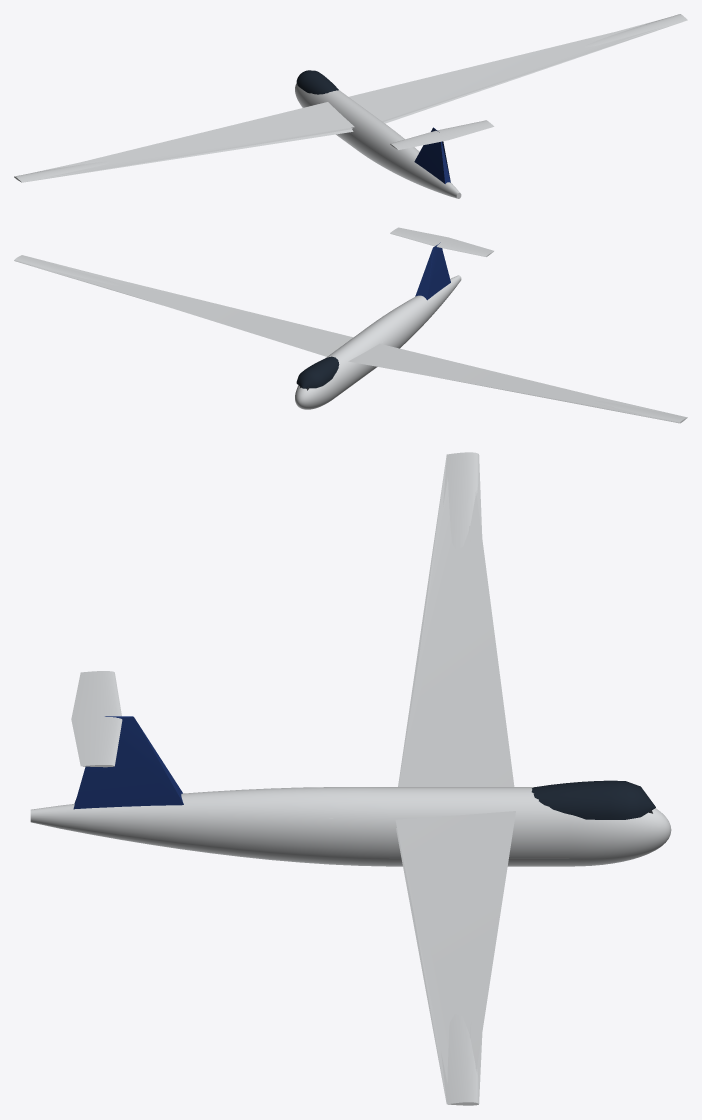
Rendered from lat_glider.dae.
3 views of the same model, one above another, from view 1: azimuth 30°, elevation 25°; view 2: azimuth 150°, elevation 25°; view 3: azimuth 270°, elevation 25° (orthographic). The views are drawn at different scales.
Parts seen in each view (by area): view 1: lat_glider1, lat_glider150, lat_glider32; view 2: lat_glider1, lat_glider150, lat_glider32; view 3: lat_glider150, lat_glider1, lat_glider32.
Boxes of the visible parts, x1,y1,x2,y2 form: lat_glider1: (46,25,659,183); lat_glider150: (14,14,687,198); lat_glider32: (27,18,678,181); lat_glider1: (49,242,662,414); lat_glider150: (14,227,687,423); lat_glider32: (22,257,680,421); lat_glider150: (30,452,671,1105); lat_glider1: (73,478,515,1083); lat_glider32: (329,455,652,1103).
Bounding box in the file's own units: 18 × 7.5 × 1.9.
